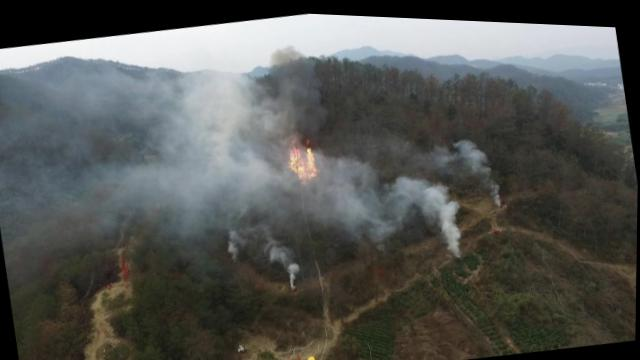fire: (253, 102, 349, 199)
